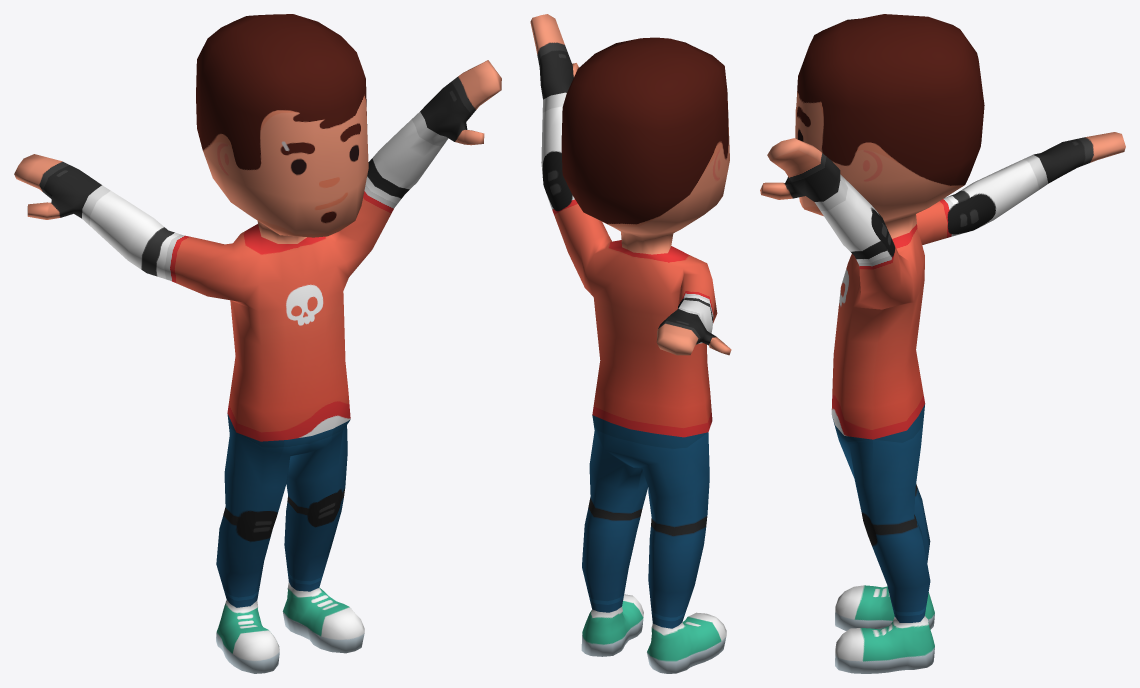
Rendered from dad_standing.glb.
The picture shows the model from 3 angles, left to right: view 1: azimuth 30°, elevation 25°; view 2: azimuth 150°, elevation 25°; view 3: azimuth 270°, elevation 25°; orthographic projection. The views are drawn at different scales.
Visible parts, largest first — view 1: characterMedium; view 2: characterMedium; view 3: characterMedium.
Boxes of the visible parts, left/top/right/bottom form: characterMedium: left=14, top=14, right=501, bottom=673; characterMedium: left=530, top=14, right=731, bottom=673; characterMedium: left=760, top=14, right=1125, bottom=673.
Bounding box in the file's own units: 0.9286 × 1.62 × 0.8688.
1 material, 1 textured.
